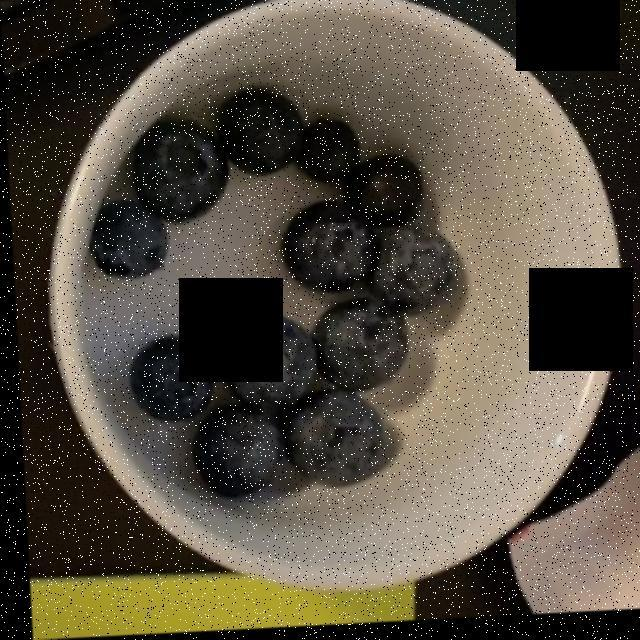blueberries: (97, 89, 478, 500)
